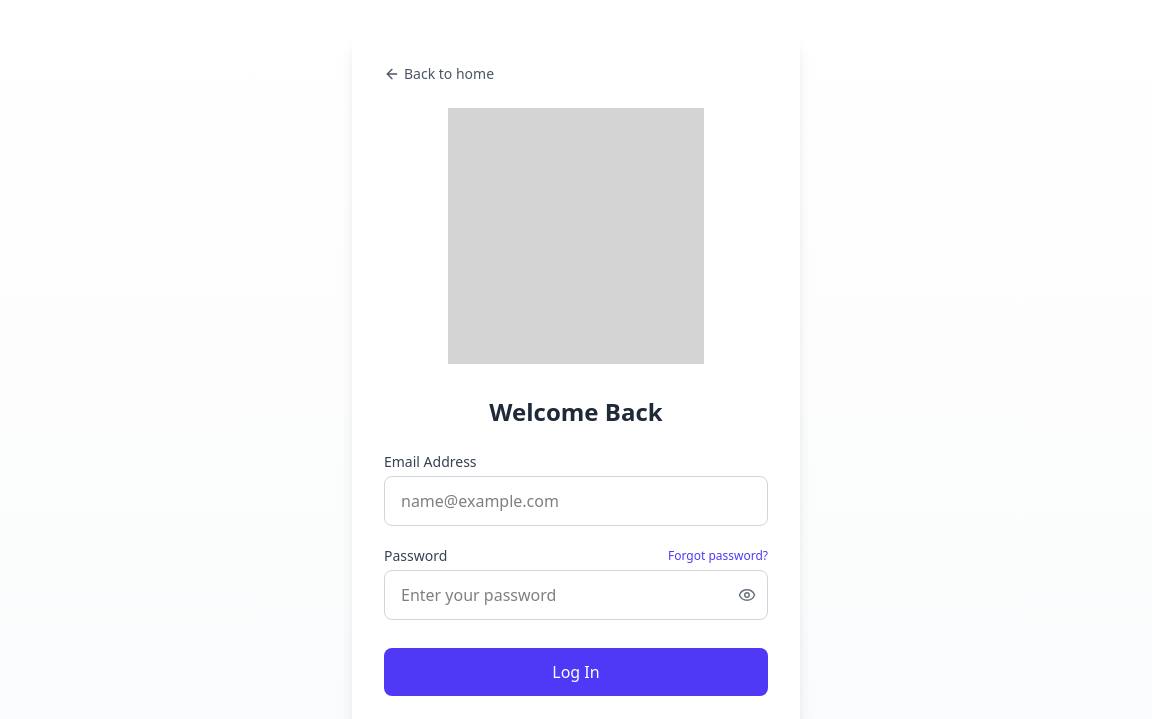
Scenario: Login Component › handles server error
In the field labelled "Email Address": (576, 501) top-left (384, 476), bottom-right (768, 526), type "test@example.com"
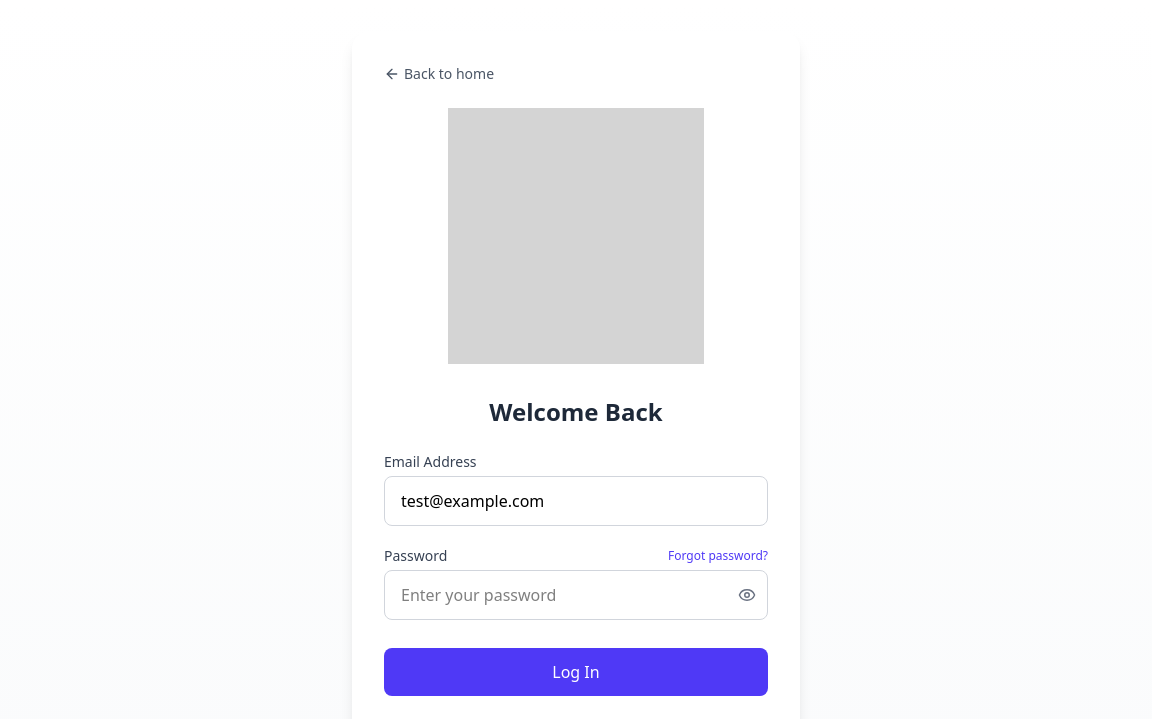
In the password field labelled "Password": (576, 595) top-left (384, 570), bottom-right (768, 620), type "password123"
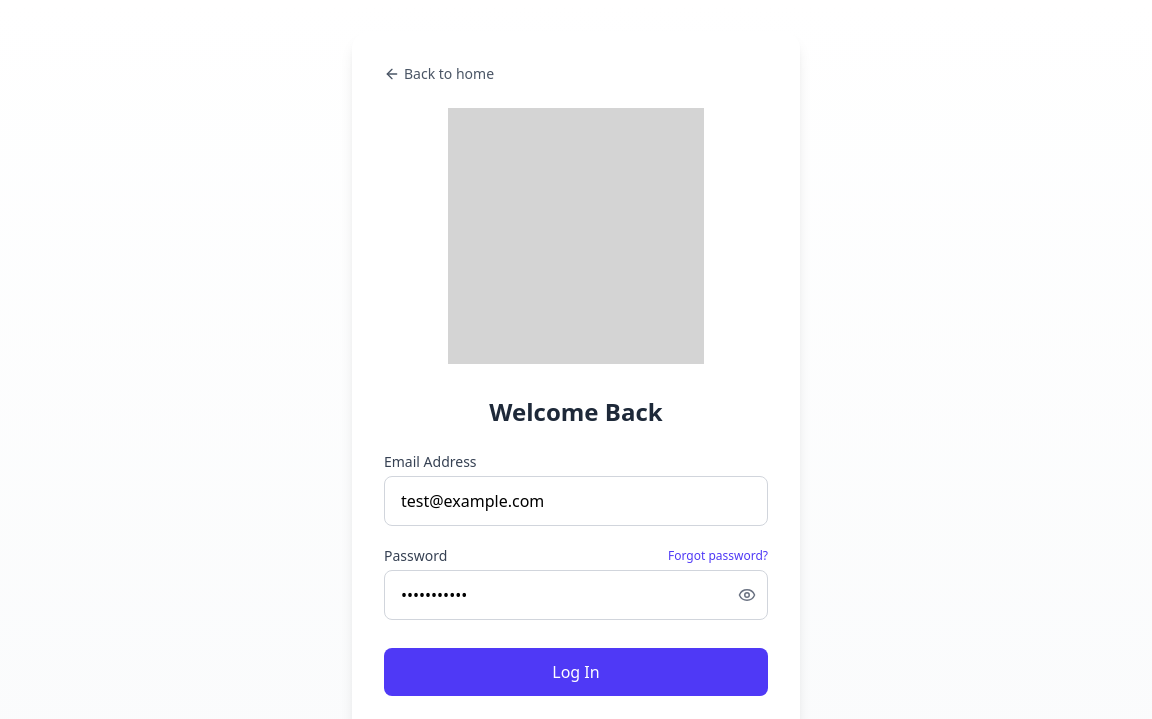
Click the button "Log In": (576, 672) top-left (384, 648), bottom-right (768, 696)
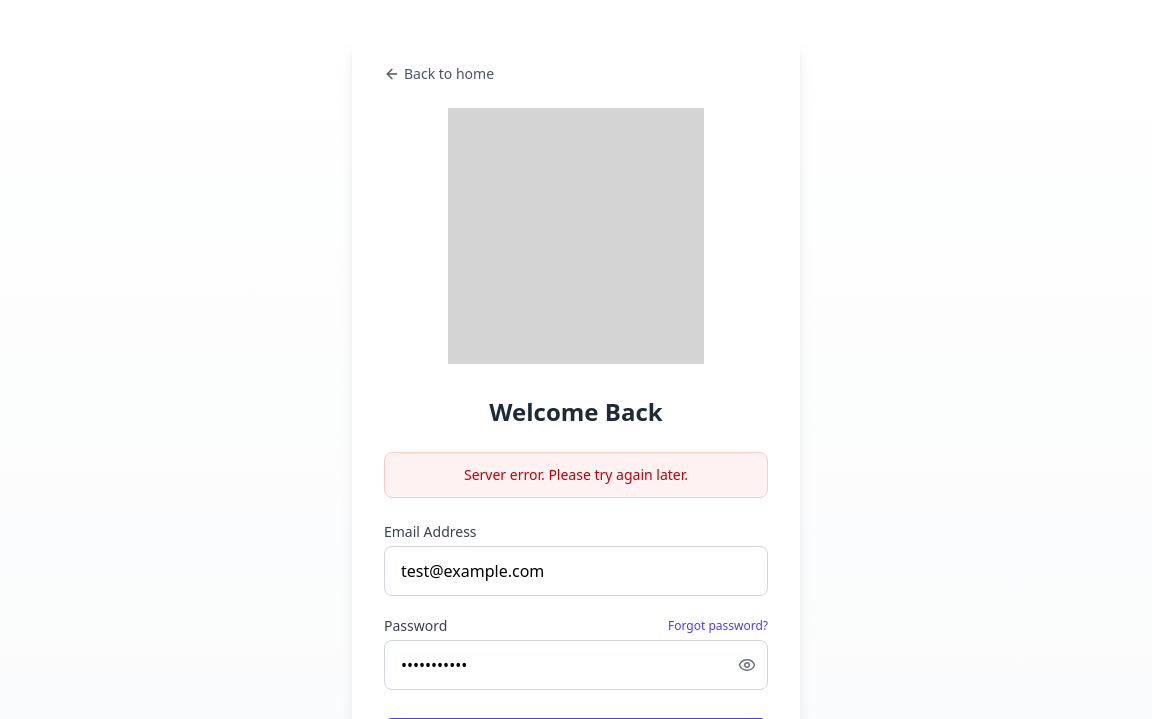
Check: the text "Server error. Please try again later." is shown, box top-left (384, 452), bottom-right (768, 498)
